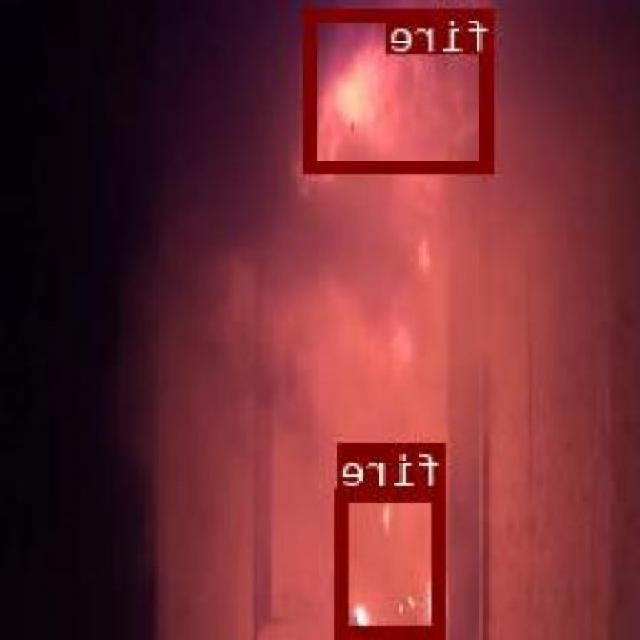Fire: (308, 6, 496, 171), (341, 487, 448, 635)
